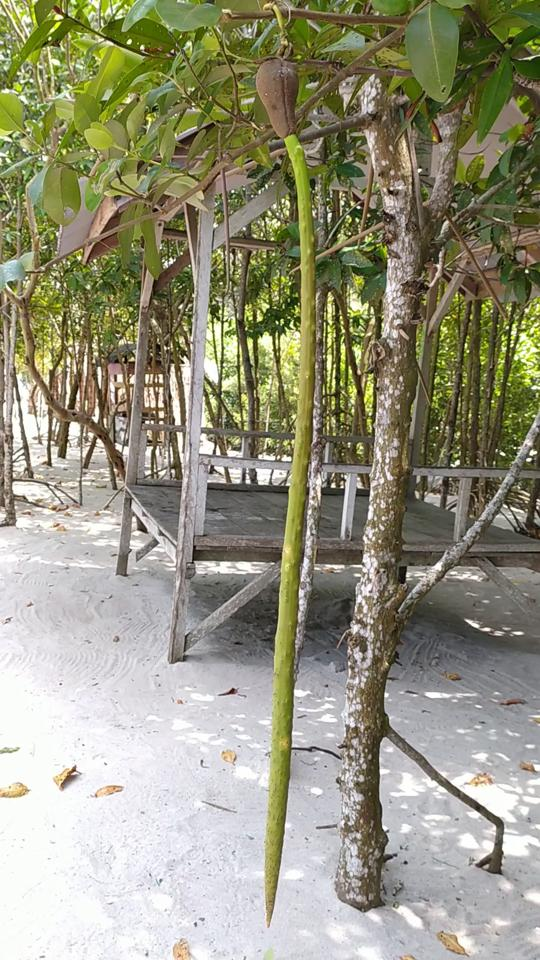mentah: (223, 44, 331, 934)
